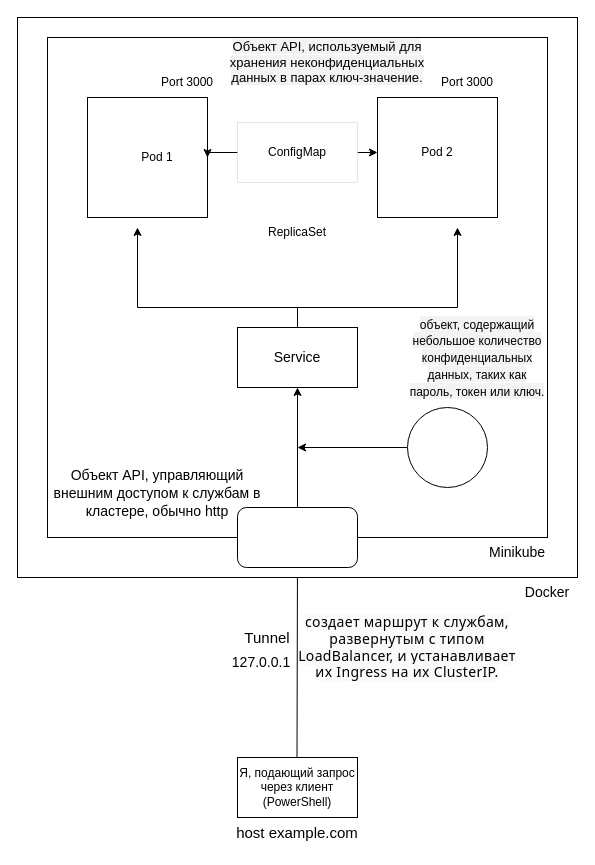
Image size: 595x865. Some labels were removed from this diagram. The centre of each missing label's shape, as x and y in pixels:
Ingress: (x=297, y=537)
TLS: (x=447, y=447)
